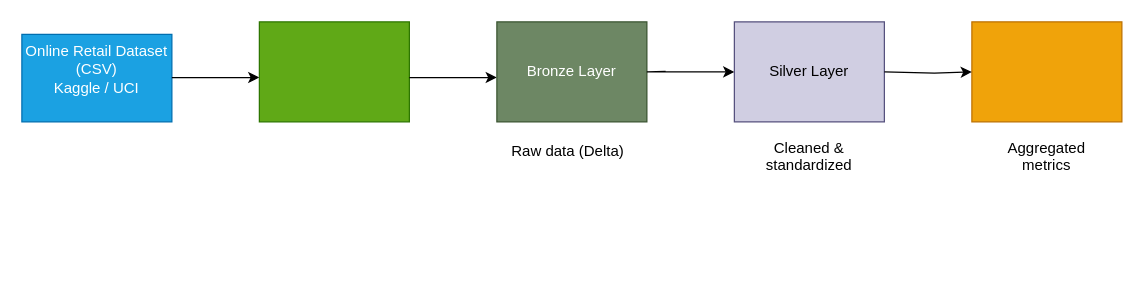
This 1144x304 diagram has some shape labels left out. Here are the shapes that lost their labels. From the top down, the centre of each, then its label:
At point (333, 71): "Databricks Catalog raw_sales_csv".
At point (1046, 71): "Gold layer".
